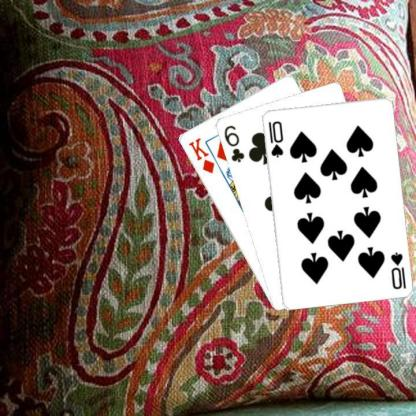10S: (265, 118, 284, 159), (388, 249, 406, 290)
6C: (221, 122, 246, 164)
KD: (186, 135, 216, 175)
